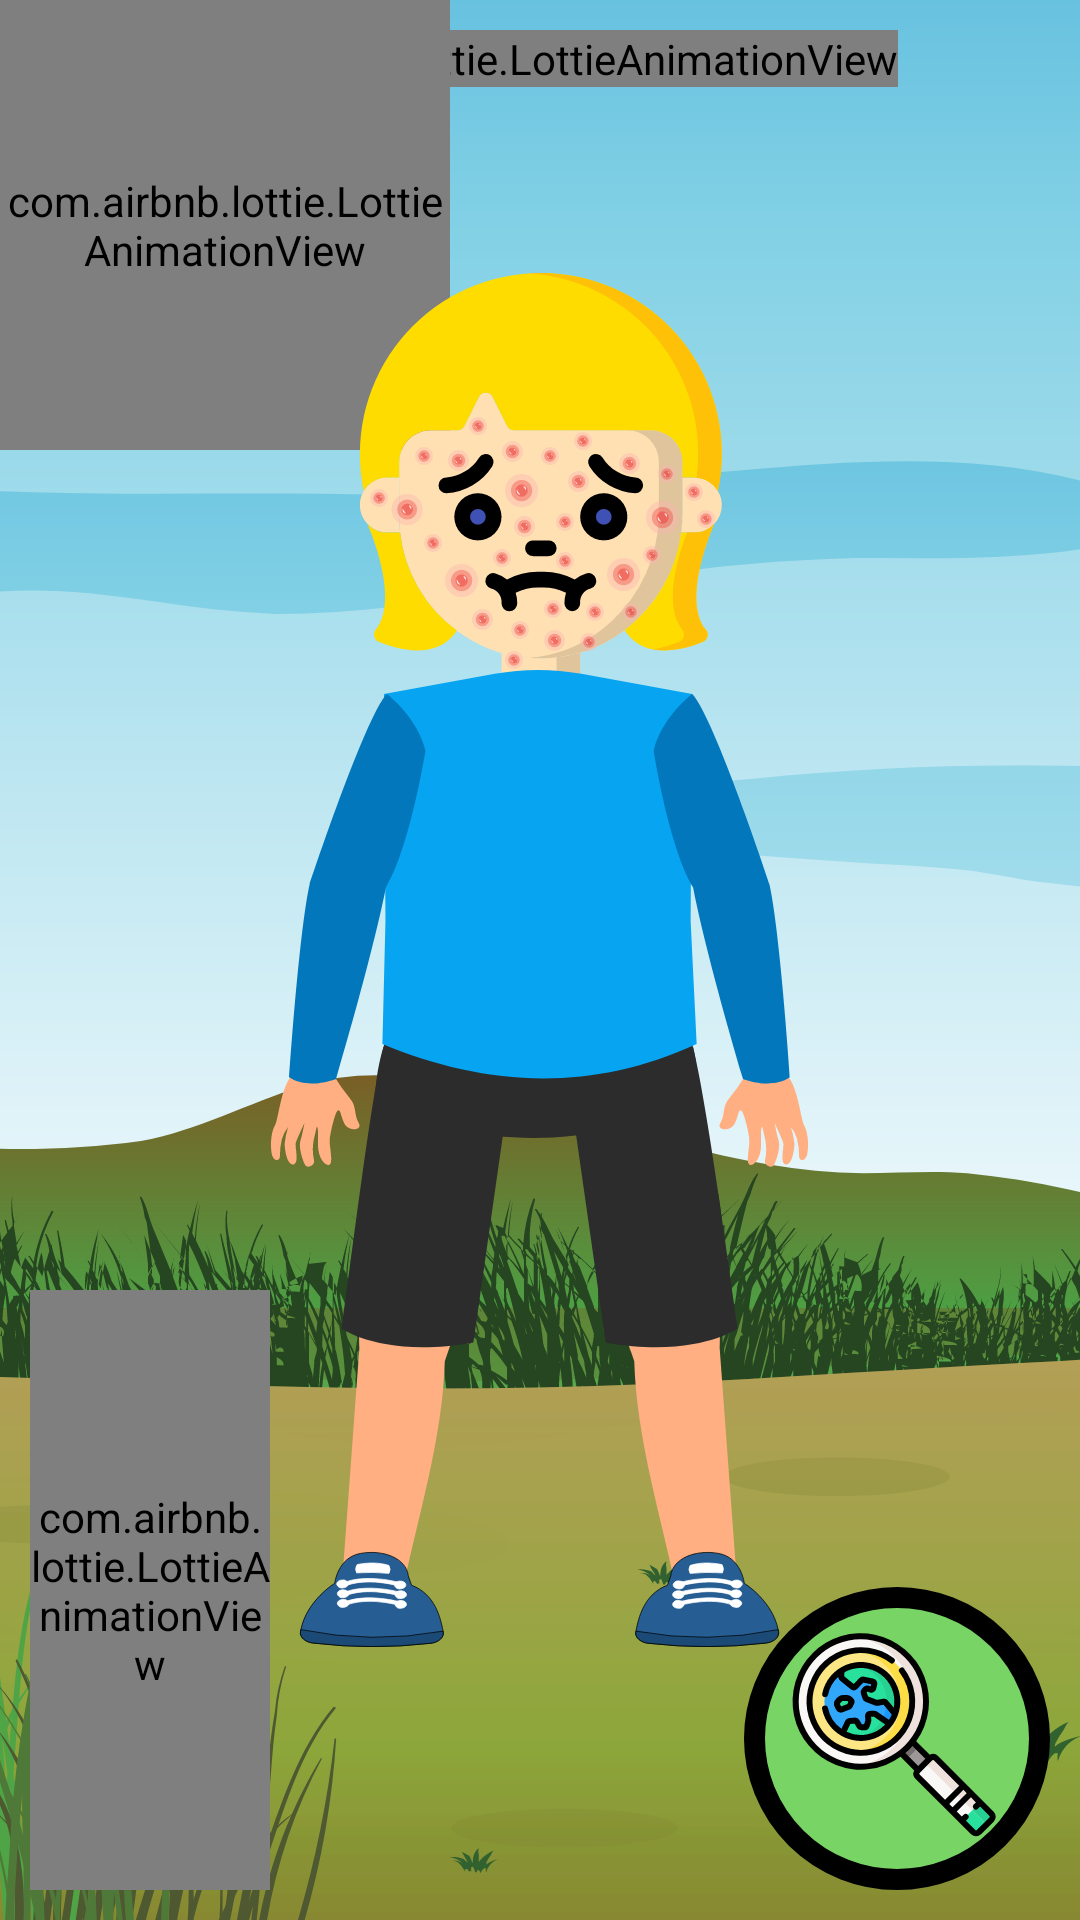

Icons on this 1080px x 1920px Android screen, each with the point to tap as point (x, y):
pimples: point (542, 543)
research: point (897, 1738)
